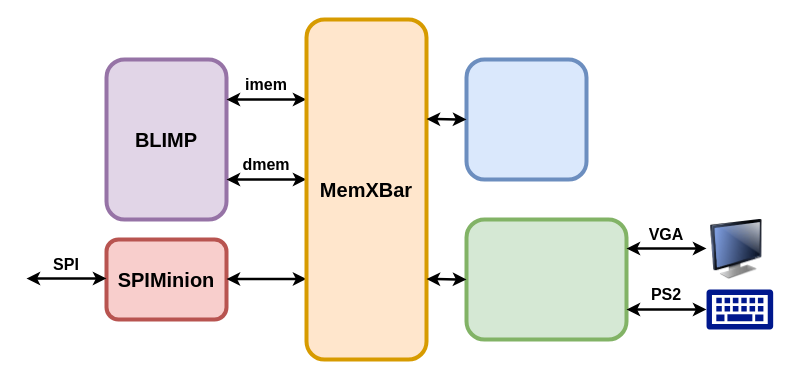
Some shapes in this 790 by 378 pixel diagram are drawn without their labels. The shapes that lost their labels are listed below. From the top down, each one's centre as x and y in pixels, then its label:
At (526,119): "BRAM".
At (546,279): "Peripherals".
